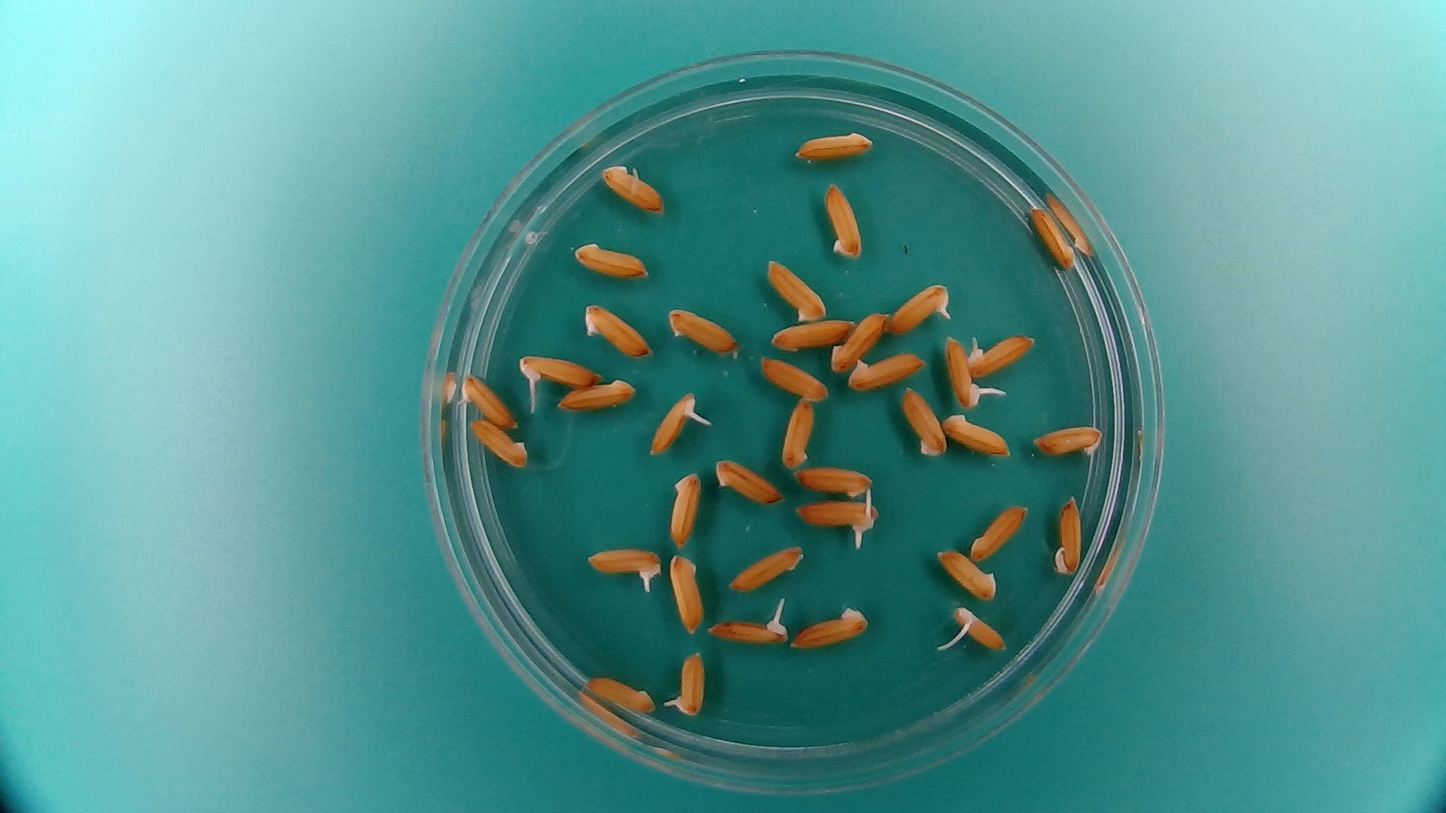no: (579, 300, 654, 360), (786, 601, 873, 652), (763, 255, 828, 322), (725, 540, 807, 593), (664, 304, 742, 355), (966, 501, 1030, 562), (829, 308, 889, 373), (598, 160, 668, 215), (938, 408, 1014, 458), (712, 455, 785, 507), (844, 349, 929, 393), (898, 383, 947, 459), (934, 544, 999, 601), (756, 353, 830, 403), (1026, 202, 1077, 272), (819, 178, 862, 260), (788, 461, 876, 501), (764, 314, 856, 352), (569, 238, 650, 281), (466, 415, 530, 469), (582, 671, 655, 716), (559, 374, 639, 415), (667, 551, 706, 635), (666, 466, 702, 551), (1029, 422, 1105, 462), (792, 126, 876, 162), (1051, 492, 1083, 577), (778, 397, 815, 470)
yes: (792, 496, 882, 544), (511, 349, 605, 394), (582, 542, 664, 592), (883, 280, 953, 336), (942, 331, 990, 410), (456, 371, 519, 430), (645, 392, 702, 457), (965, 329, 1039, 377), (703, 607, 793, 646), (948, 604, 1009, 653), (666, 647, 707, 719)
